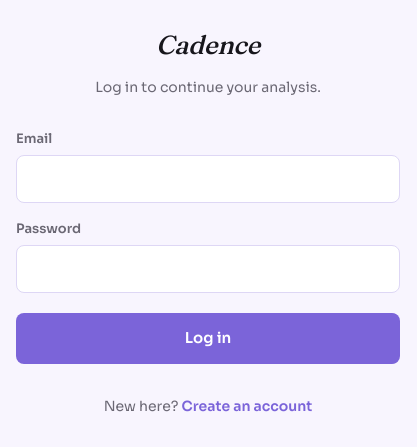
Test case: LoginPage › shows the server's reason and doesn't navigate when login fails
Type "ada@example.com" into the field labelled "Email" at [208, 179], box [16,155,400,203]
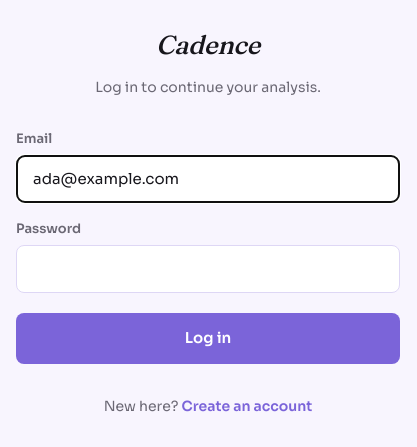
Type "secret-pass" into the password field labelled "Password" at [208, 269], box [16,245,400,293]
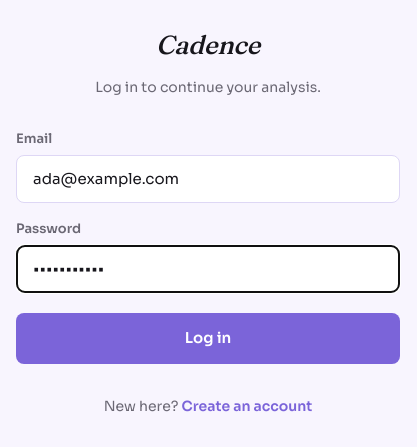
Click the button "Log in" at [208, 339], box [16,313,400,364]
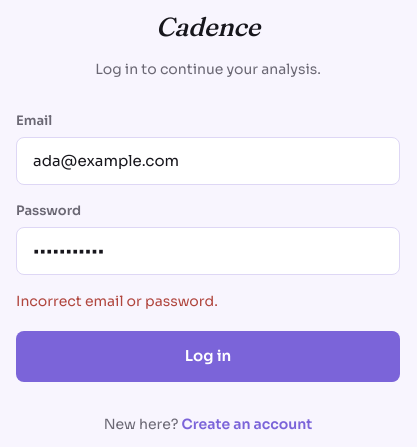
Expected: the button "Log in" is enabled, [16,331,400,382]
Result: the text "Incorrect email or password." is shown at [16,292,218,310]
